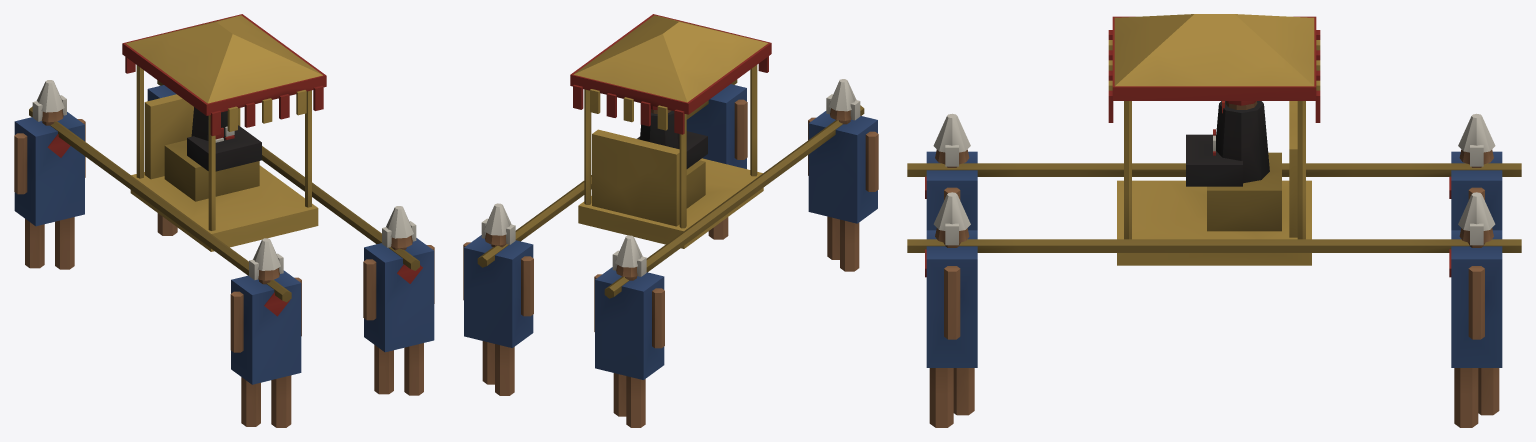
The model's file is litter.glb.
3 renders of one model, left to right at view 1: azimuth 30°, elevation 25°; view 2: azimuth 150°, elevation 25°; view 3: azimuth 270°, elevation 25°, orthographic. The views are drawn at different scales.
Visible parts, largest first — view 1: base; view 2: base; view 3: base.
Part boxes in pixels (left/top/right/bottom): base: left=14, top=14, right=434, bottom=427; base: left=463, top=14, right=878, bottom=427; base: left=907, top=14, right=1521, bottom=427.
Bounding box in the file's own units: 1.88 × 2.68 × 4.1.
